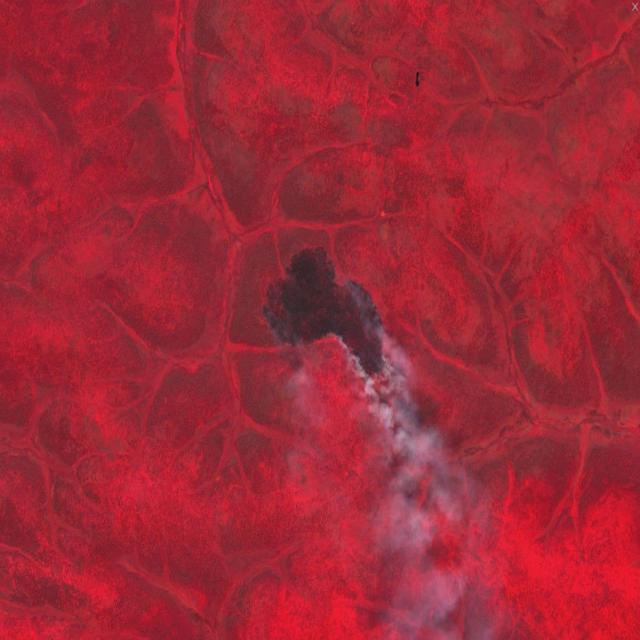fire: (257, 237, 388, 381)
